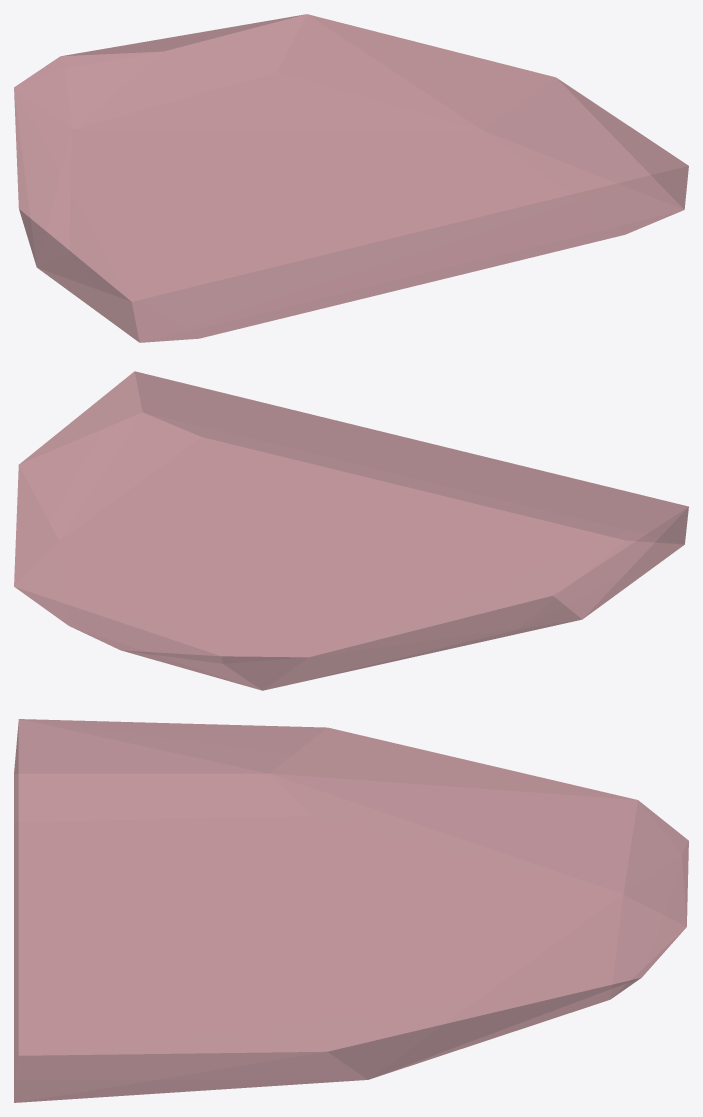
3 views of the same model, one above another, from view 1: azimuth 30°, elevation 25°; view 2: azimuth 150°, elevation 25°; view 3: azimuth 270°, elevation 25° (orthographic). The views are drawn at different scales.
Visible parts, largest first — view 1: Shape_IndexedFaceSet.004_Shape_IndexedFaceSet.11082; view 2: Shape_IndexedFaceSet.004_Shape_IndexedFaceSet.11082; view 3: Shape_IndexedFaceSet.004_Shape_IndexedFaceSet.11082.
Part boxes in pixels (x1=…): Shape_IndexedFaceSet.004_Shape_IndexedFaceSet.11082: x1=14, y1=14, x2=688, y2=342; Shape_IndexedFaceSet.004_Shape_IndexedFaceSet.11082: x1=14, y1=371, x2=688, y2=690; Shape_IndexedFaceSet.004_Shape_IndexedFaceSet.11082: x1=14, y1=719, x2=688, y2=1102.
Bounding box in the file's own units: 0.3993 × 0.0353 × 0.3382.
